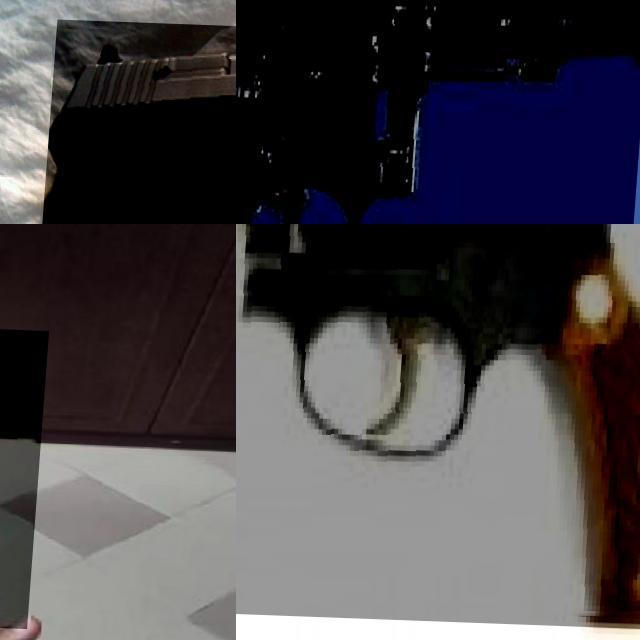-: (0, 322, 116, 626)
gun-knife-thesis - v11 Yolov5 augmented: (236, 224, 640, 626), (236, 0, 640, 224), (37, 18, 236, 224)
